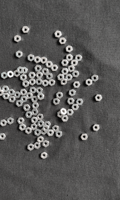nut: (22, 26, 30, 33), (55, 31, 63, 38), (14, 35, 21, 43), (51, 65, 59, 72), (75, 55, 83, 62), (72, 71, 80, 78), (61, 78, 68, 86), (36, 72, 44, 79), (37, 93, 45, 100), (31, 109, 39, 116), (76, 99, 84, 106), (60, 108, 67, 116), (81, 134, 89, 141), (47, 130, 55, 137), (34, 142, 41, 150), (41, 152, 48, 160), (16, 51, 23, 58), (66, 46, 73, 53), (34, 56, 41, 63), (46, 61, 53, 68), (67, 54, 74, 61), (71, 60, 78, 67), (68, 65, 75, 72), (62, 68, 69, 75), (66, 74, 73, 81), (58, 74, 65, 81), (1, 72, 8, 79), (7, 71, 14, 78), (17, 67, 24, 74), (21, 67, 28, 74), (35, 65, 42, 72), (42, 68, 49, 75), (46, 73, 53, 80), (29, 72, 36, 79), (20, 74, 27, 81), (23, 81, 30, 88), (29, 79, 36, 86), (42, 80, 49, 87), (49, 79, 56, 86), (86, 79, 93, 86), (92, 75, 99, 82), (2, 86, 9, 93), (8, 89, 15, 96), (3, 93, 10, 100), (9, 96, 16, 103), (20, 89, 27, 96), (21, 96, 28, 103), (16, 100, 23, 107), (69, 90, 76, 97), (68, 98, 75, 105), (72, 104, 79, 111), (67, 109, 74, 116), (37, 114, 44, 121), (93, 125, 100, 132), (7, 118, 14, 125), (0, 120, 7, 127), (19, 124, 26, 131), (25, 127, 32, 134), (38, 121, 45, 128), (31, 124, 38, 131), (43, 125, 50, 132), (41, 128, 48, 135), (56, 131, 63, 138), (59, 38, 67, 44), (28, 54, 34, 62), (95, 95, 103, 101), (41, 57, 47, 64), (62, 60, 69, 66), (14, 70, 20, 77), (36, 79, 43, 85), (74, 82, 81, 88), (14, 92, 21, 98), (30, 87, 36, 94), (37, 87, 43, 94), (26, 93, 33, 99), (31, 97, 38, 103), (32, 103, 39, 109), (24, 105, 31, 111), (26, 112, 33, 118), (57, 92, 63, 99), (53, 99, 60, 105), (62, 116, 69, 122), (0, 133, 6, 140), (18, 118, 25, 124), (32, 117, 38, 124), (35, 129, 41, 136), (44, 122, 51, 128), (53, 125, 59, 132), (37, 137, 44, 143), (43, 141, 49, 148), (28, 144, 34, 151), (58, 112, 64, 118), (0, 90, 4, 96)
